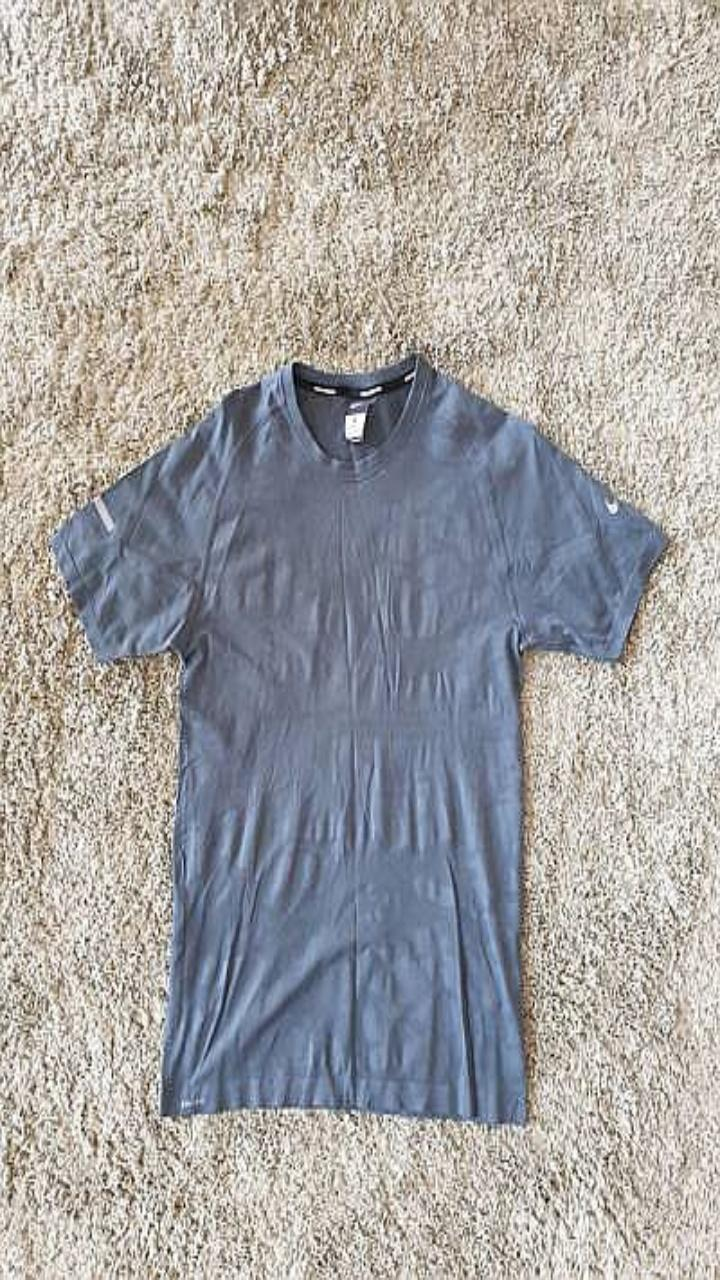T-Shirt: (49, 351, 667, 1123)
